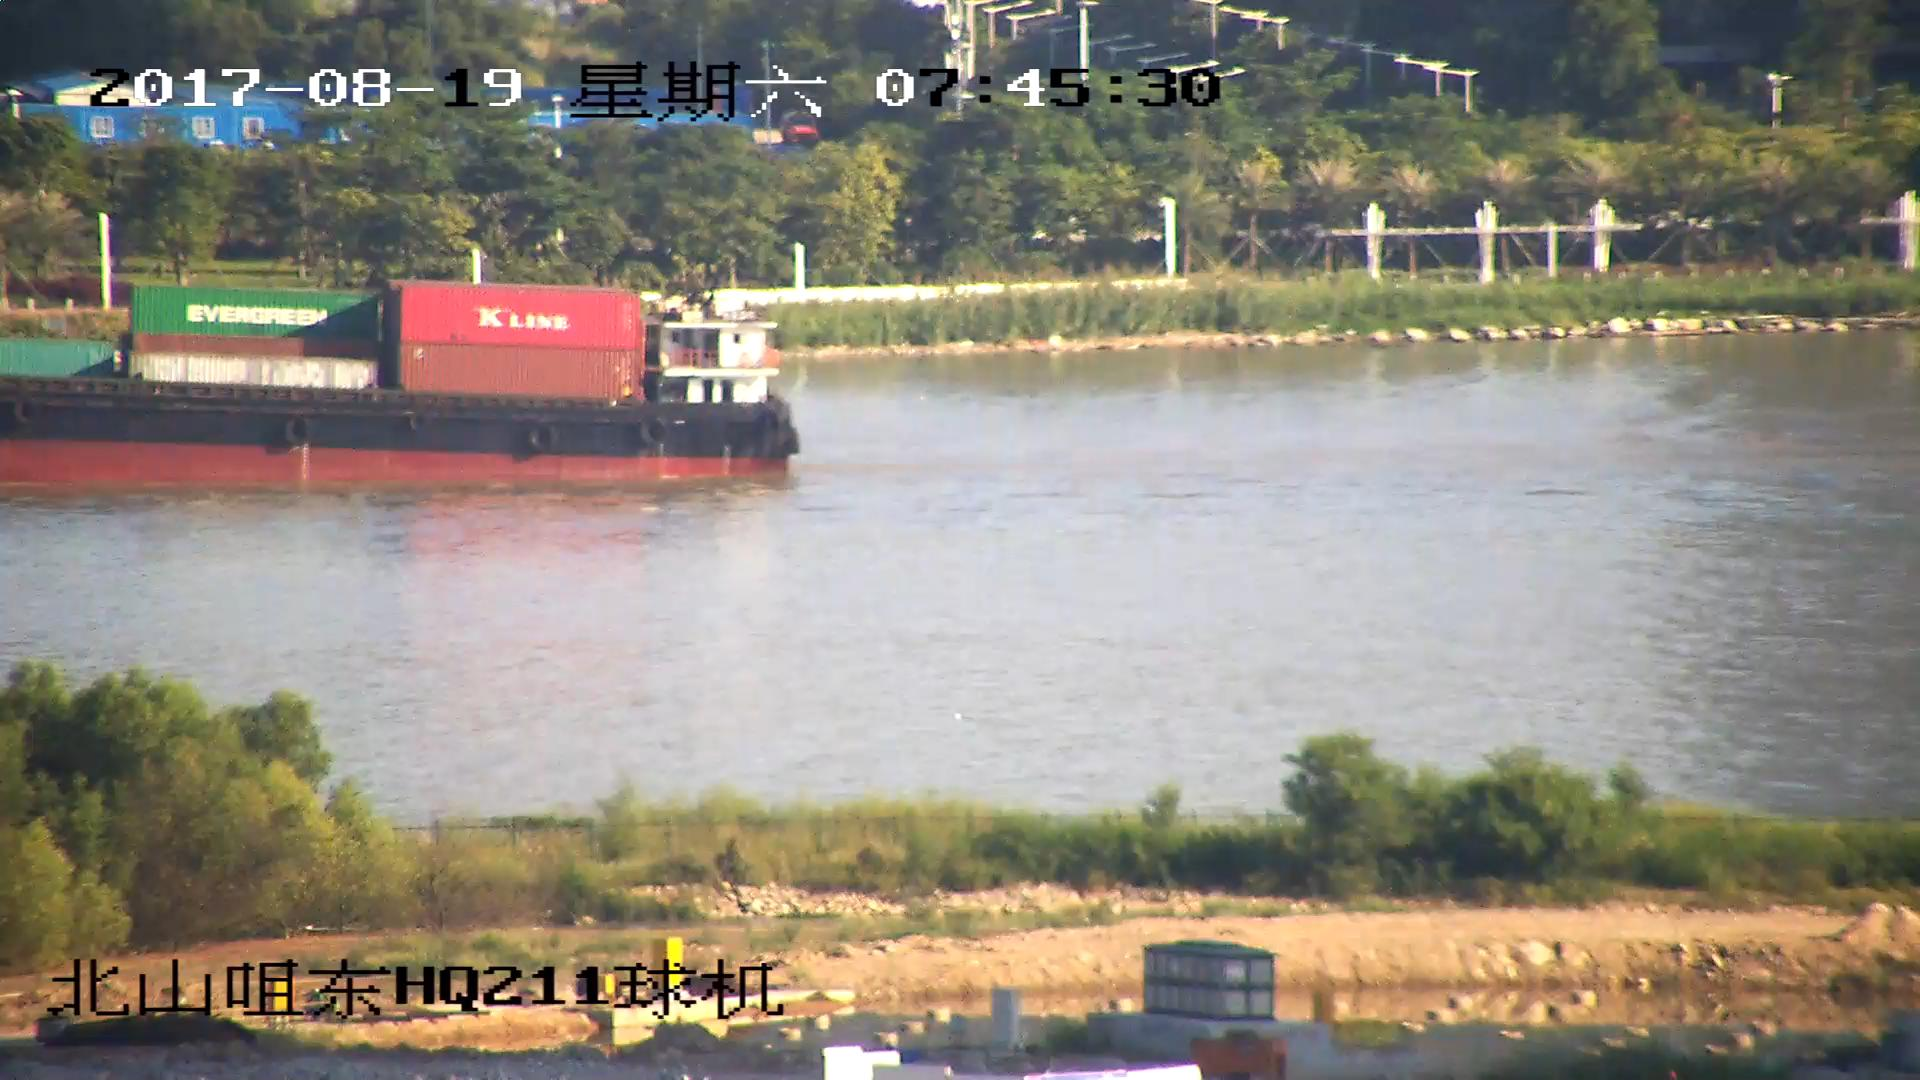container ship: (1, 271, 801, 484)
